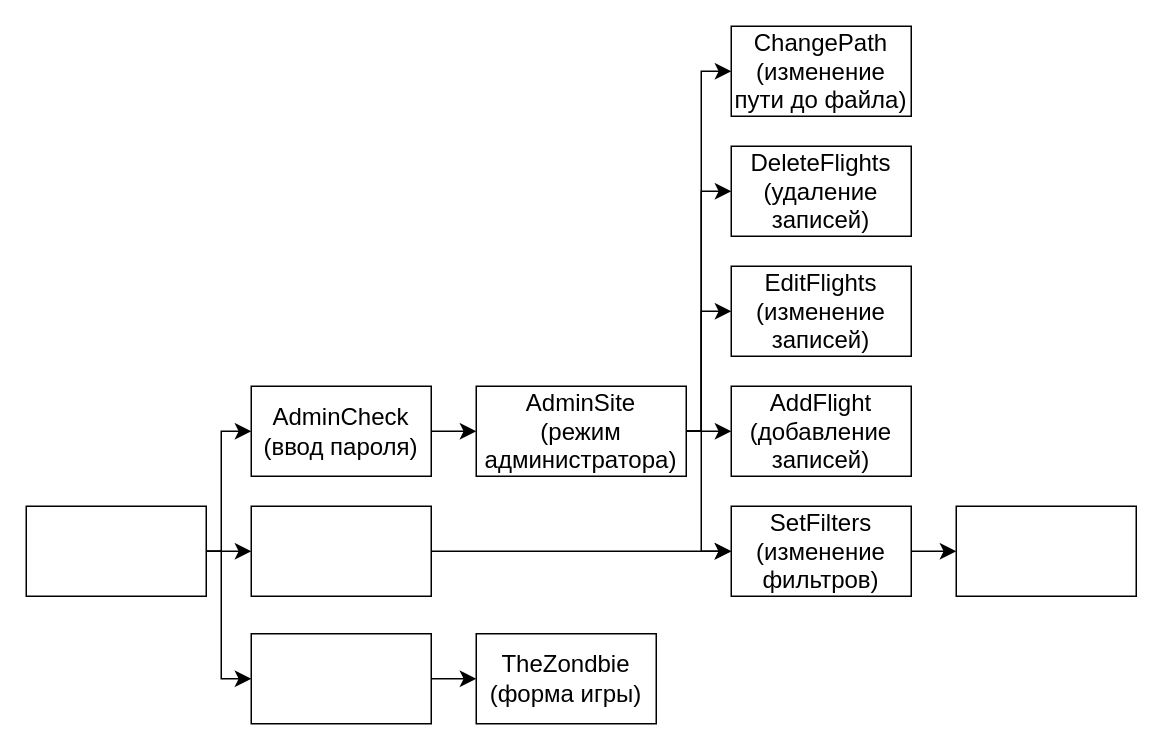
The diagram is 1163 pixels wide and 750 high, and some of its shapes have lost their labels. Each missing label, with the centre of its shape:
"EditFilterField (изменение поля фильтра)" belongs at (1045,550).
"FlightMenu (главное меню)" belongs at (115,550).
"StartGame (меню игры)" belongs at (340,678).
"UserSite (режим пользователя)" belongs at (340,550).
